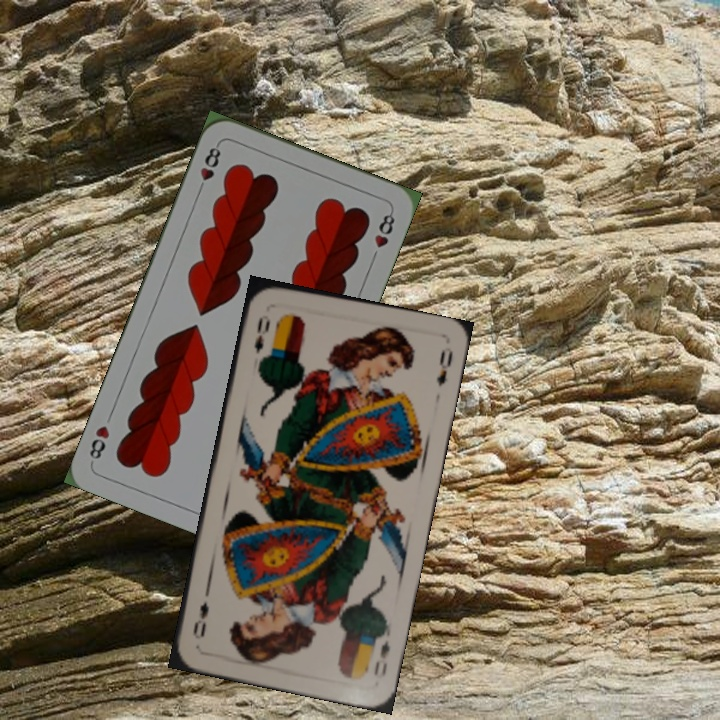EO: (250, 311, 273, 357), (370, 636, 393, 679)
H8: (194, 139, 224, 196)
